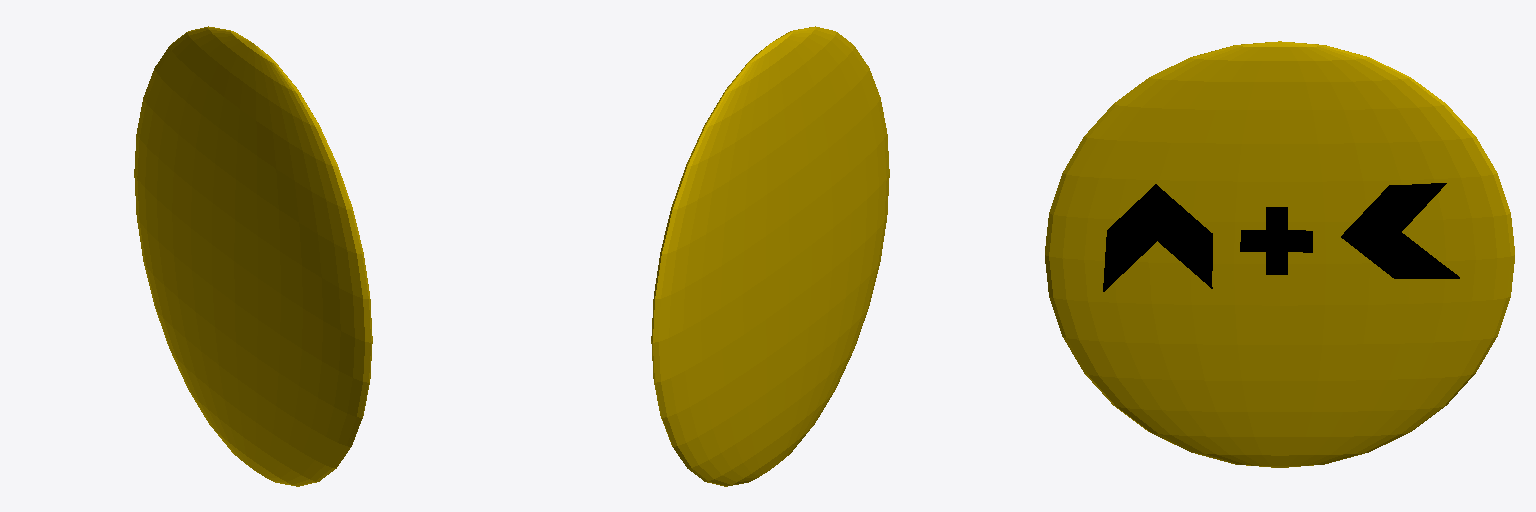
File: ashton_kutcher_ian.obj
3 views of the same model, side by side, from view 1: azimuth 30°, elevation 25°; view 2: azimuth 150°, elevation 25°; view 3: azimuth 270°, elevation 25° (orthographic).
Parts seen in each view (by area): view 1: Sphere; view 2: Sphere; view 3: Sphere, Cube.004_Cube.049, Cube.009_Cube.032, Cube.002_Cube.048, Cube.006_Cube.031, Cube.011_Cube.047, Cube.010_Cube.033, Cube.007_Cube.050, Cube.005_Cube.046.
Boxes of the visible parts, x1,y1,x2,y2 form: Sphere: [134, 26, 372, 486]; Sphere: [651, 26, 889, 486]; Sphere: [1045, 41, 1514, 467]; Cube.004_Cube.049: [1145, 199, 1212, 288]; Cube.009_Cube.032: [1367, 183, 1446, 249]; Cube.002_Cube.048: [1103, 202, 1161, 291]; Cube.006_Cube.031: [1365, 224, 1459, 278]; Cube.011_Cube.047: [1266, 207, 1287, 274]; Cube.010_Cube.033: [1341, 209, 1391, 262]; Cube.007_Cube.050: [1127, 184, 1173, 235]; Cube.005_Cube.046: [1240, 230, 1312, 252].
Bounding box in the file's own units: 1.02 × 9.61 × 9.61.